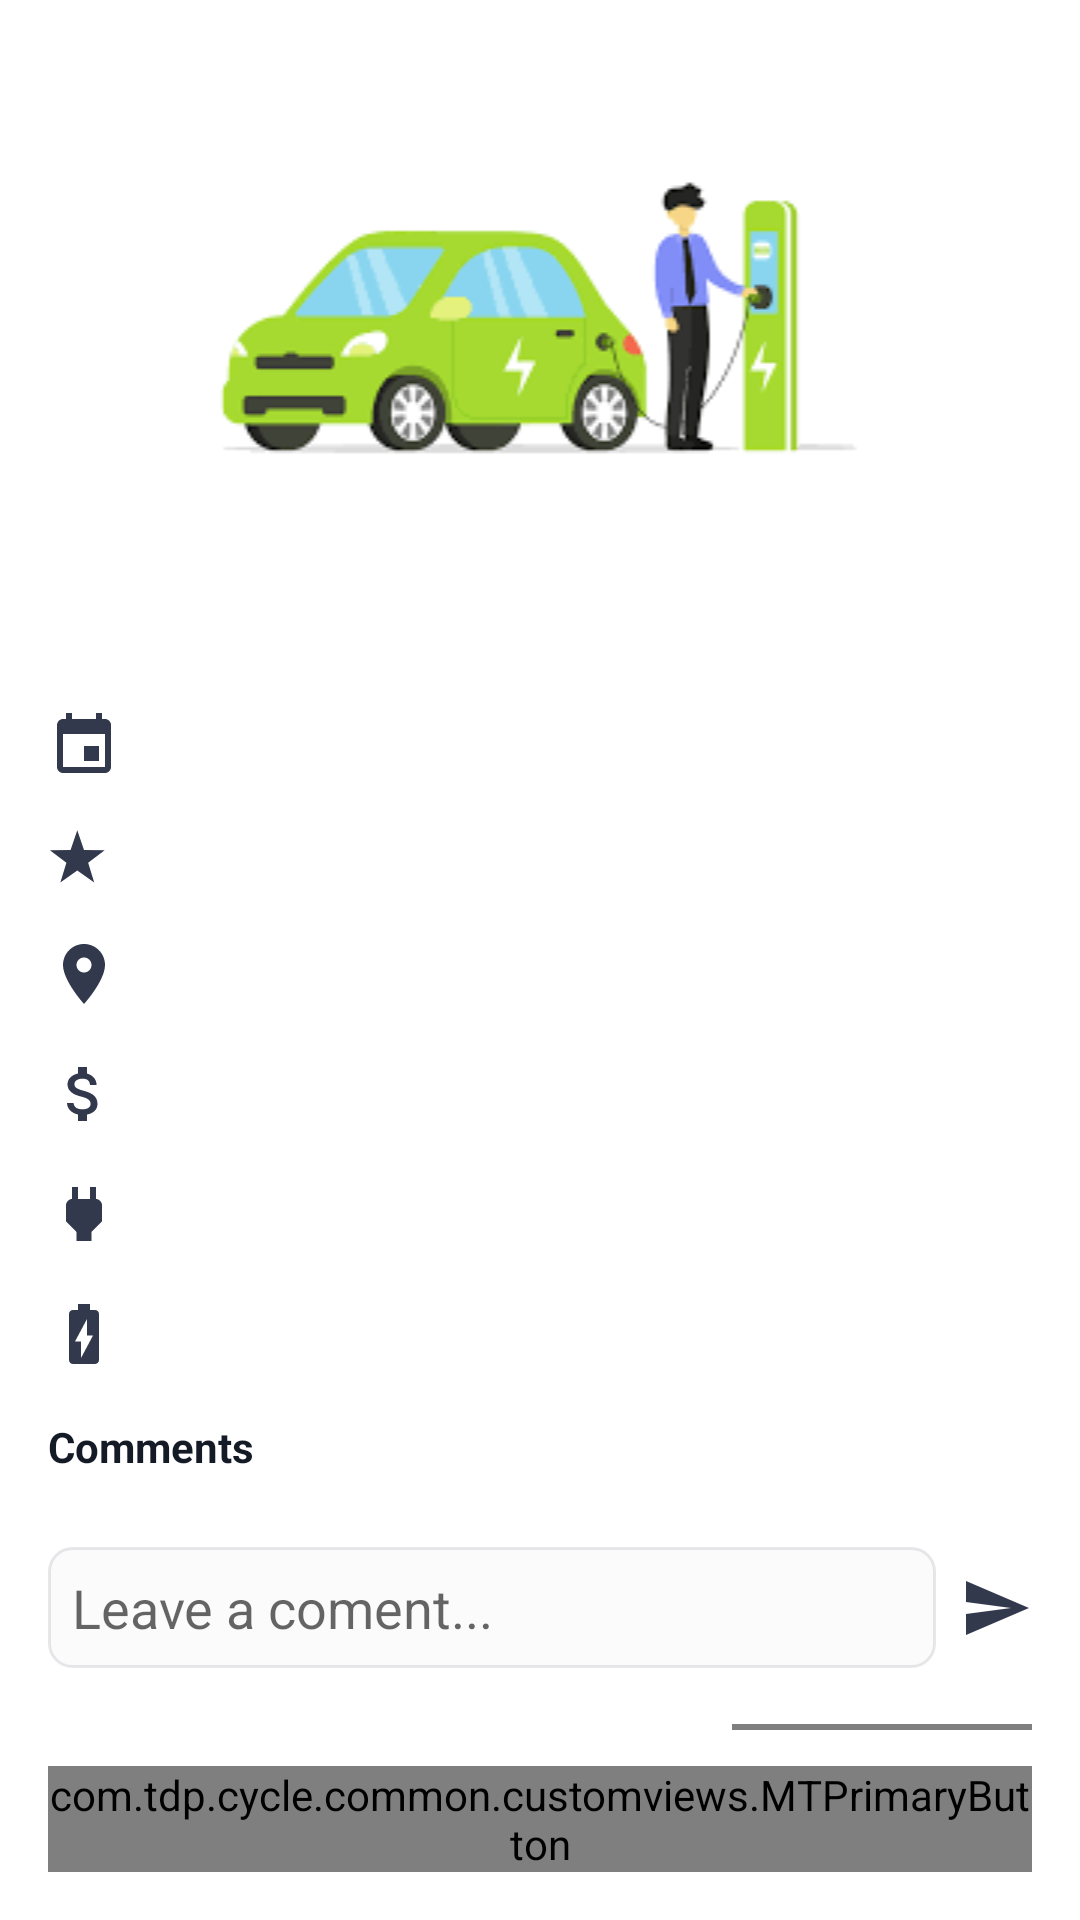

Icon bounding boxes for this 1080px×1920px phone screenshot, format bbox(x1, y1, x2, y2):
send: bbox(966, 1581, 1029, 1635)
